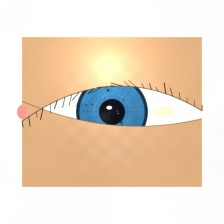pinguecula_lesion: (141, 94, 186, 129)
